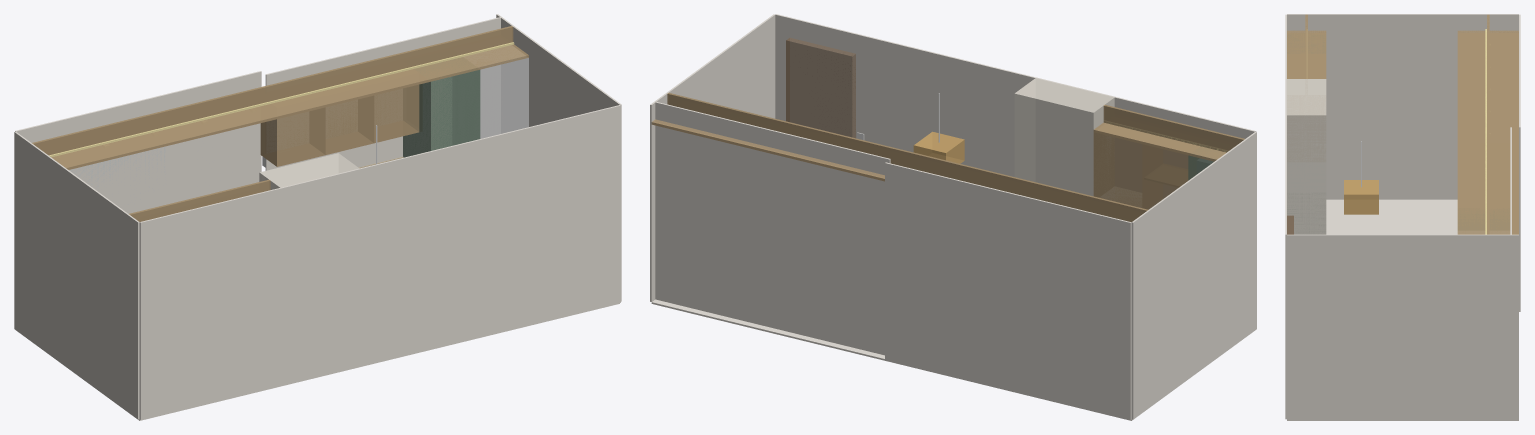
Rendered from cocina.obj.
The picture shows the model from 3 angles, left to right: view 1: azimuth 30°, elevation 25°; view 2: azimuth 150°, elevation 25°; view 3: azimuth 270°, elevation 25°; orthographic projection. The views are drawn at different scales.
Parts seen in each view (by area): view 1: Pared Sur, Pared Oeste, Pared Norte izq, Cove Norte, Cornisa Norte, Pared Este, Escobero, Pared Norte der, Frigorífico, Vajilla izq, Campana/Especias, Vajilla der (+5 smaller); view 2: Pared Norte izq, Pared Norte der, Pared Sur, Pared Oeste, Columna azulejo, Cove Norte, Pared Este, Puerta, Repisa electrodomésticos, Cove Sur, Vitrina, Suelo (+3 smaller); view 3: Pared Este, Pared Oeste, Cornisa Norte, Columna azulejo, Suelo, Cornisa Sur, Lámpara comedor, Pared Sur, Cove Norte, Pared Norte izq, LED Norte.
Boxes of the visible parts, x1,y1,x2,y2 form: Pared Sur: [139, 105, 620, 419]; Pared Oeste: [14, 131, 139, 419]; Pared Norte izq: [15, 71, 261, 213]; Cove Norte: [32, 26, 513, 155]; Cornisa Norte: [51, 44, 528, 169]; Pared Este: [496, 14, 621, 301]; Escobero: [403, 69, 480, 157]; Pared Norte der: [265, 17, 500, 170]; Frigorífico: [480, 57, 528, 138]; Vajilla izq: [260, 107, 325, 166]; Campana/Especias: [325, 95, 374, 154]; Vajilla der: [374, 84, 419, 143]; Pared Norte izq: [885, 162, 1131, 419]; Pared Norte der: [655, 102, 890, 355]; Pared Sur: [775, 14, 1256, 195]; Pared Oeste: [1131, 132, 1256, 419]; Columna azulejo: [1014, 78, 1114, 196]; Cove Norte: [667, 93, 1148, 221]; Pared Este: [650, 14, 775, 301]; Puerta: [786, 38, 855, 138]; Repisa electrodomésticos: [1093, 132, 1142, 207]; Cove Sur: [1103, 104, 1244, 152]; Vitrina: [1142, 144, 1188, 209]; Suelo: [651, 299, 1241, 420]; Pared Este: [1287, 234, 1518, 419]; Pared Oeste: [1287, 14, 1518, 199]; Cornisa Norte: [1457, 30, 1518, 234]; Columna azulejo: [1287, 79, 1326, 234]; Suelo: [1287, 199, 1518, 420]; Cornisa Sur: [1287, 30, 1326, 78]; Lámpara comedor: [1344, 180, 1378, 214]; Pared Sur: [1285, 14, 1286, 419]; Cove Norte: [1487, 14, 1489, 234]; Pared Norte izq: [1519, 14, 1520, 311]; LED Norte: [1485, 29, 1486, 234].
Bounding box in the file's own units: 5.98 × 2.35 × 2.69.
